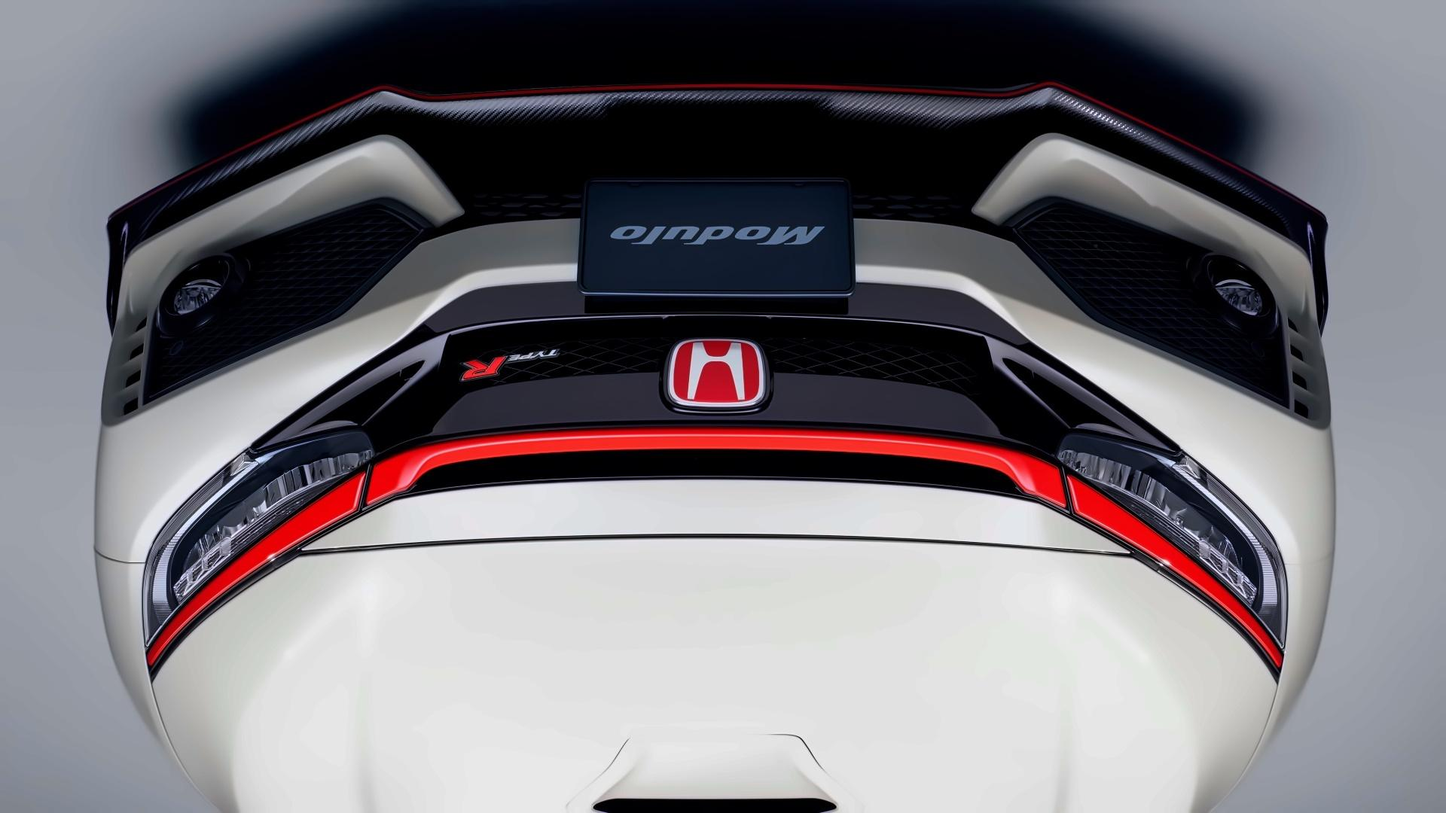Car hood: (148, 472, 1283, 813)
Front bumper: (78, 66, 1356, 557)
Headlight - -L-: (131, 414, 402, 674)
Headlight - -R-: (1045, 412, 1306, 671)
